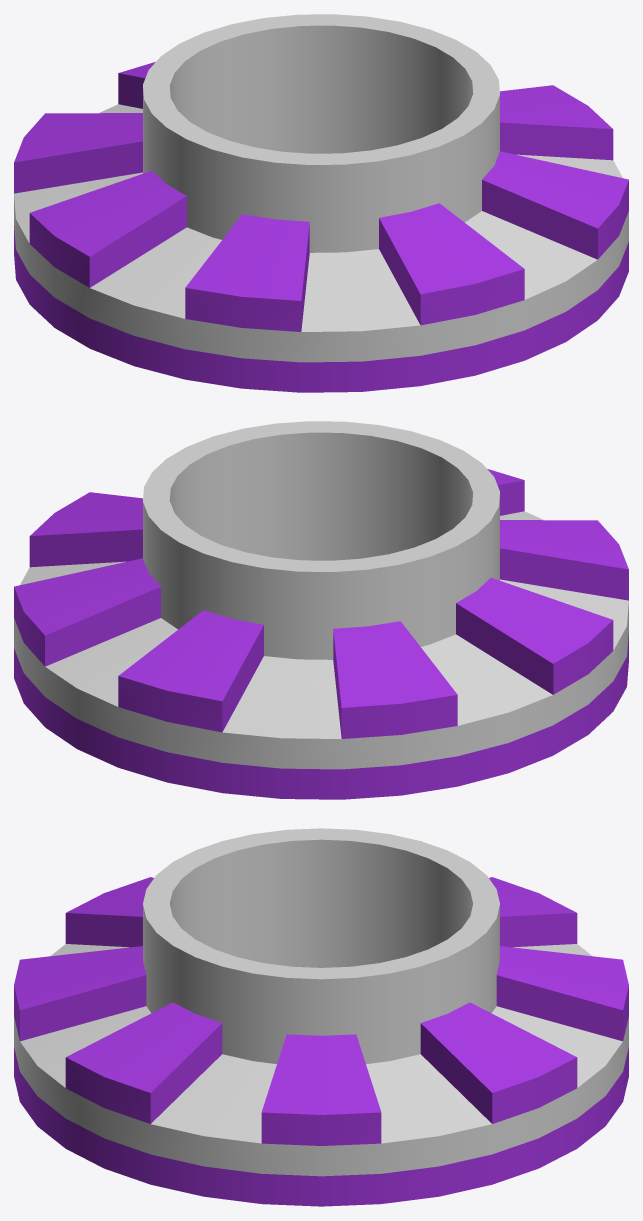
Rendered from gravityTest.fbx.
3 views of the same model, one above another, from view 1: azimuth 30°, elevation 25°; view 2: azimuth 150°, elevation 25°; view 3: azimuth 270°, elevation 25° (orthographic).
Parts seen in each view (by area): view 1: Cylinder; view 2: Cylinder; view 3: Cylinder.
Boxes of the visible parts, x1=… form: Cylinder: x1=14, y1=14, x2=628, y2=392; Cylinder: x1=14, y1=421, x2=628, y2=799; Cylinder: x1=14, y1=828, x2=628, y2=1206.
Size of the model in its own units: 172 by 53.39 by 172.
